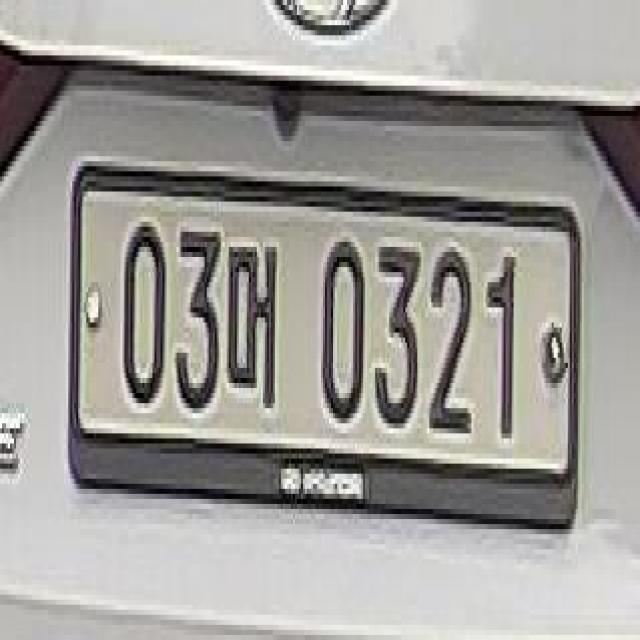illegal_plate: (71, 160, 587, 554)
